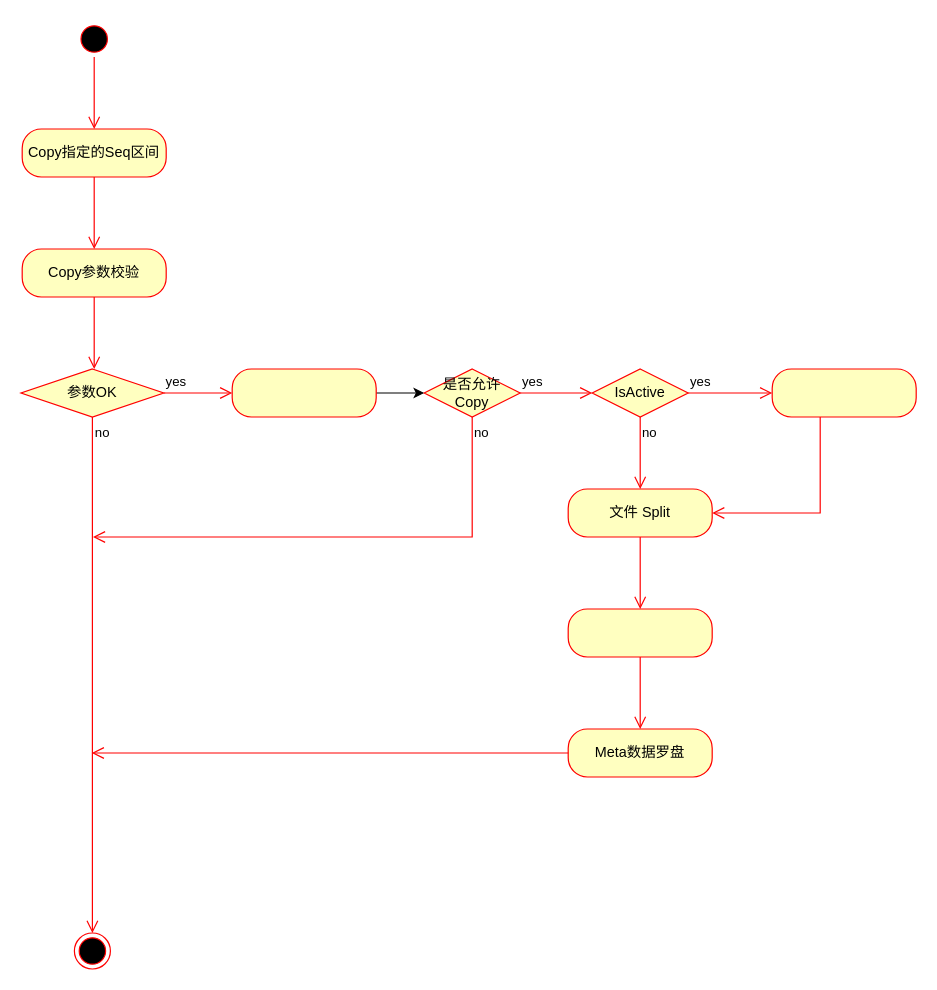
Some shapes in this 937 by 990 pixel diagram are drawn without their labels. Here are the shapes that lost their labels. From the top down, the box of each, then its label:
(231, 368, 376, 417): Copy Check
(771, 368, 916, 417): 当前文件 Flush 操作
(567, 608, 712, 657): 执行 Copy 操作
